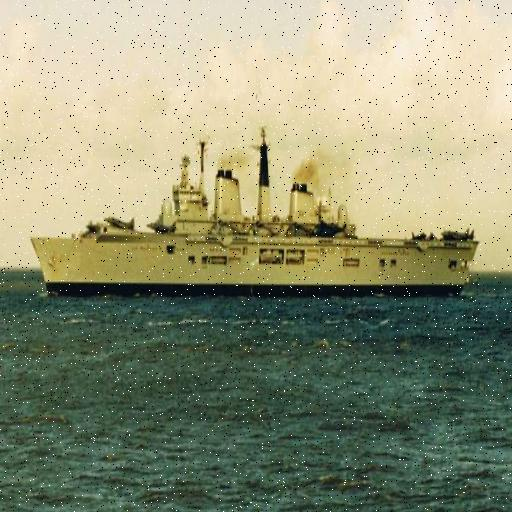Portanaves: (26, 123, 482, 306)
